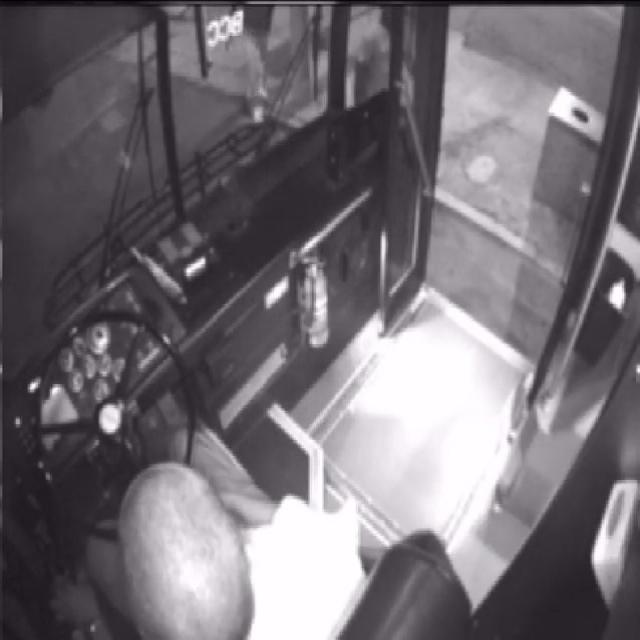bus-door: (388, 10, 640, 410)
